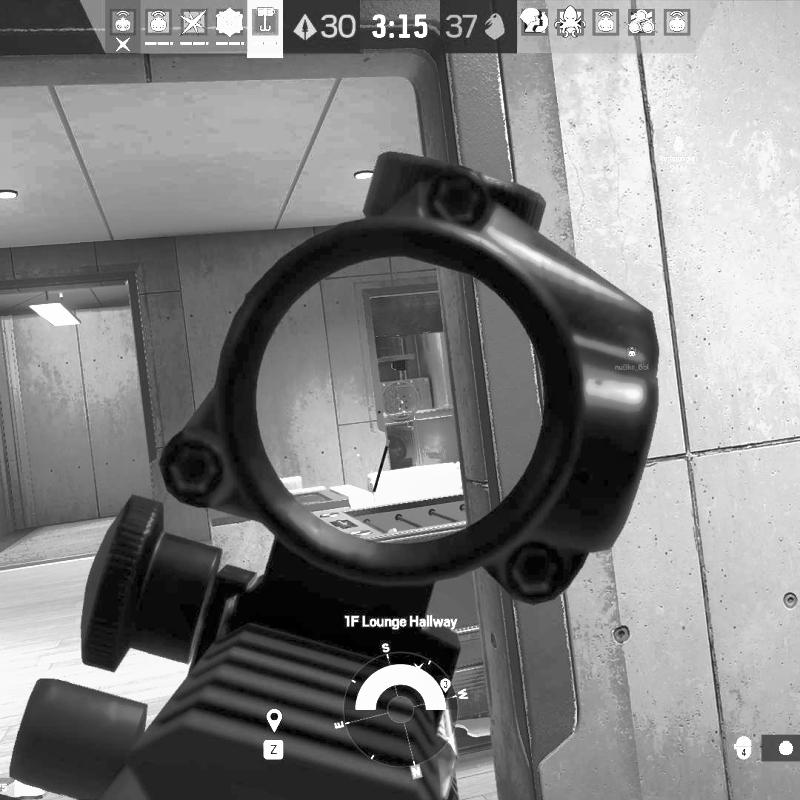Friend_label: (614, 344, 651, 372)
